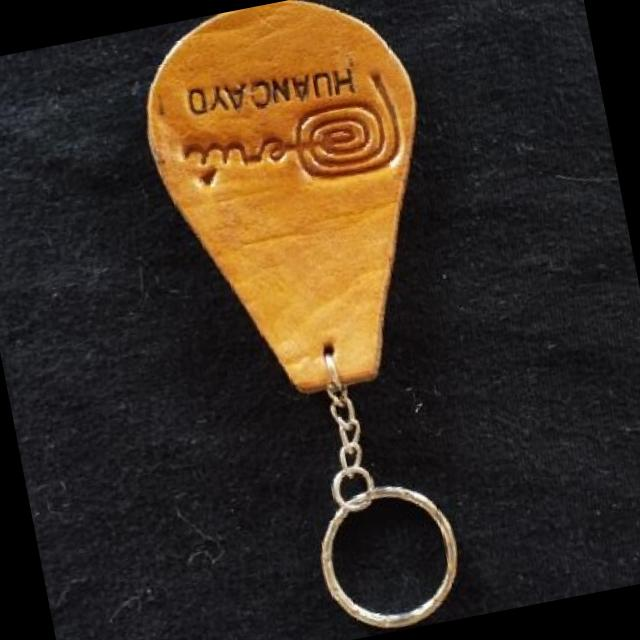Llavero: (125, 0, 469, 418)
